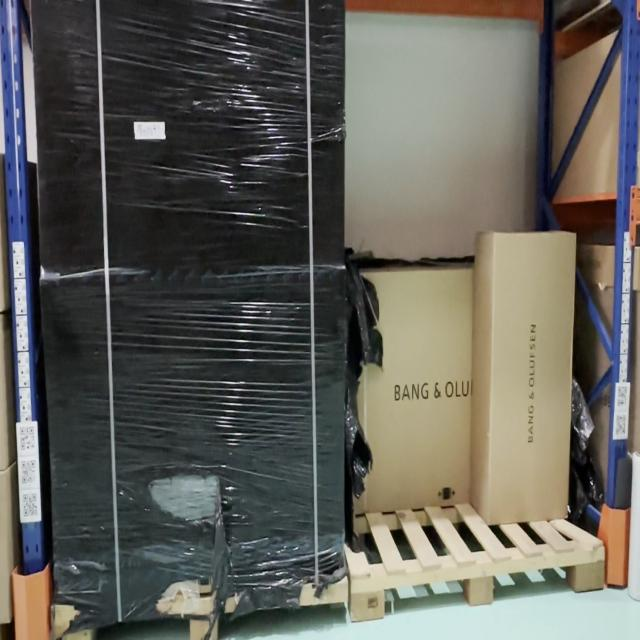box: (491, 234, 572, 518)
